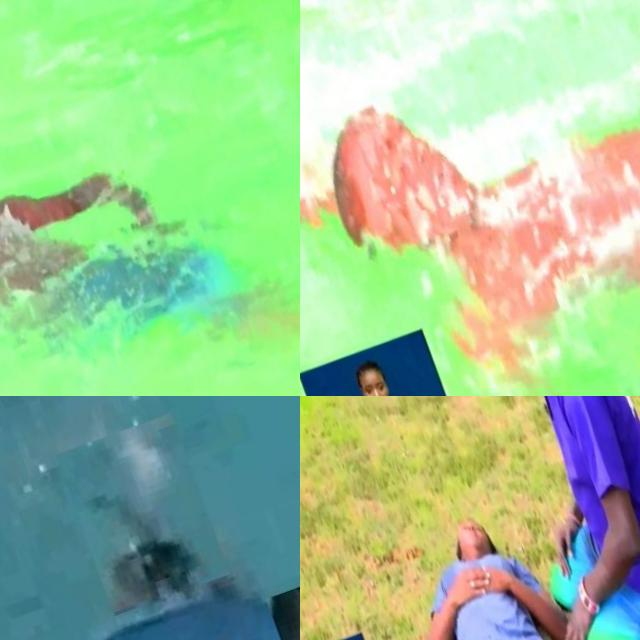drowning: (55, 414, 231, 618)
out of water: (415, 396, 640, 640), (385, 499, 636, 640)
swimming: (300, 0, 640, 396), (0, 74, 202, 396)
